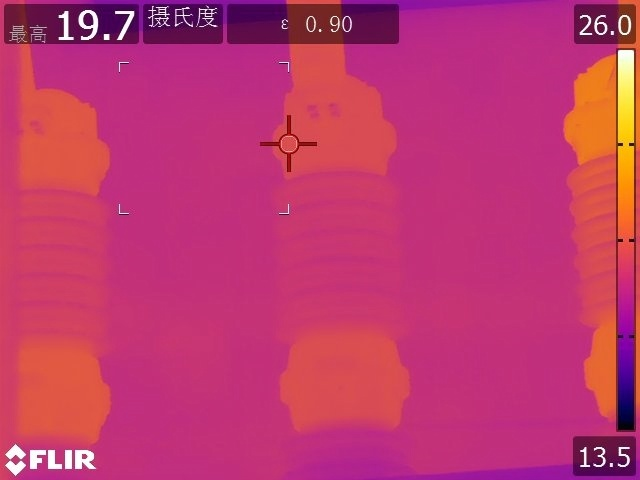post insulator: (255, 68, 429, 433), (1, 82, 138, 480), (560, 52, 640, 405)
